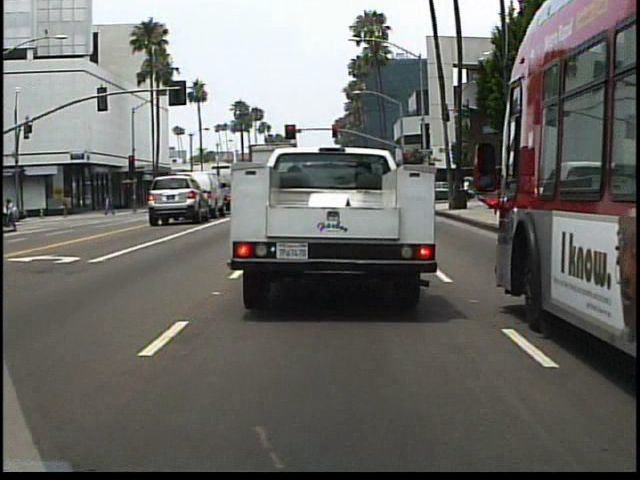person: (62, 191, 74, 218)
